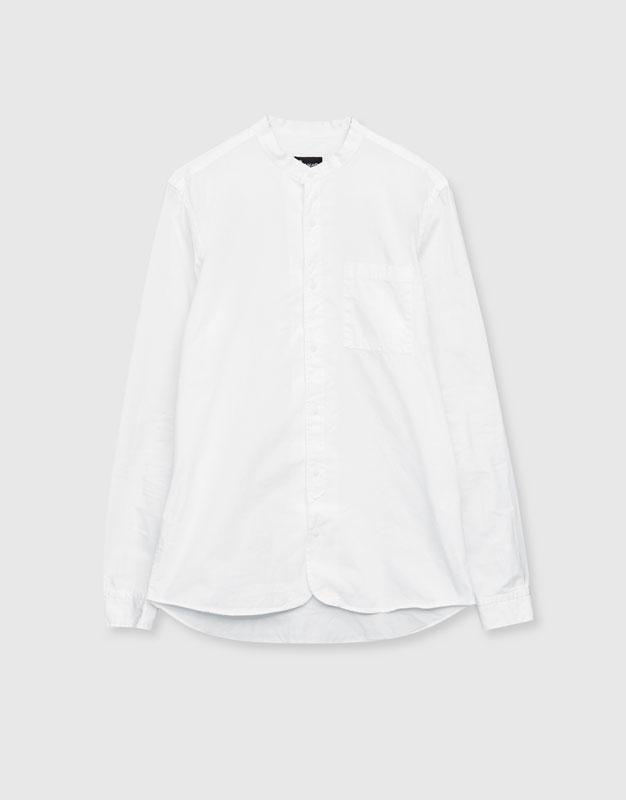teeshirt: (101, 112, 540, 663)
